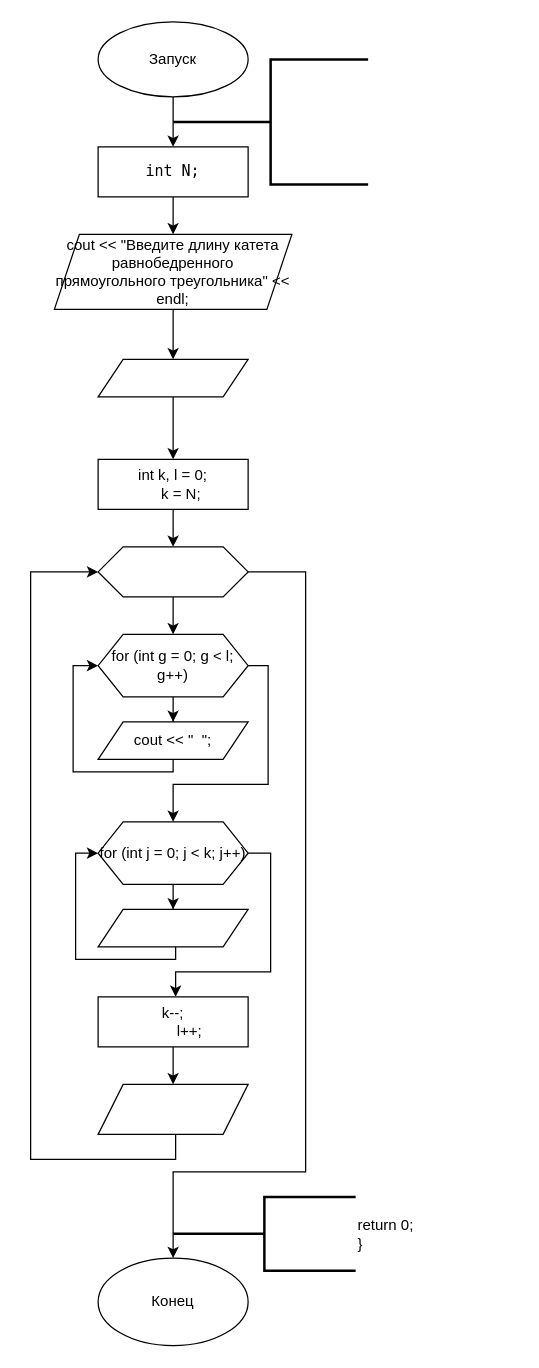
The diagram is 539 pixels wide and 1368 high, and some of its shapes have lost their labels. The shapes that lost their labels are listed below. From the top down, each one's box as (x1, y1, x2, y2) in pixels, then its label:
(171, 58, 369, 185): #include using namespace std; int main() {
(97, 358, 248, 397): cin >> N;
(97, 546, 248, 597): for (int i = 0; i < N; i++)
(97, 908, 248, 947): cout << "* ";
(97, 1083, 248, 1134): cout << endl;
